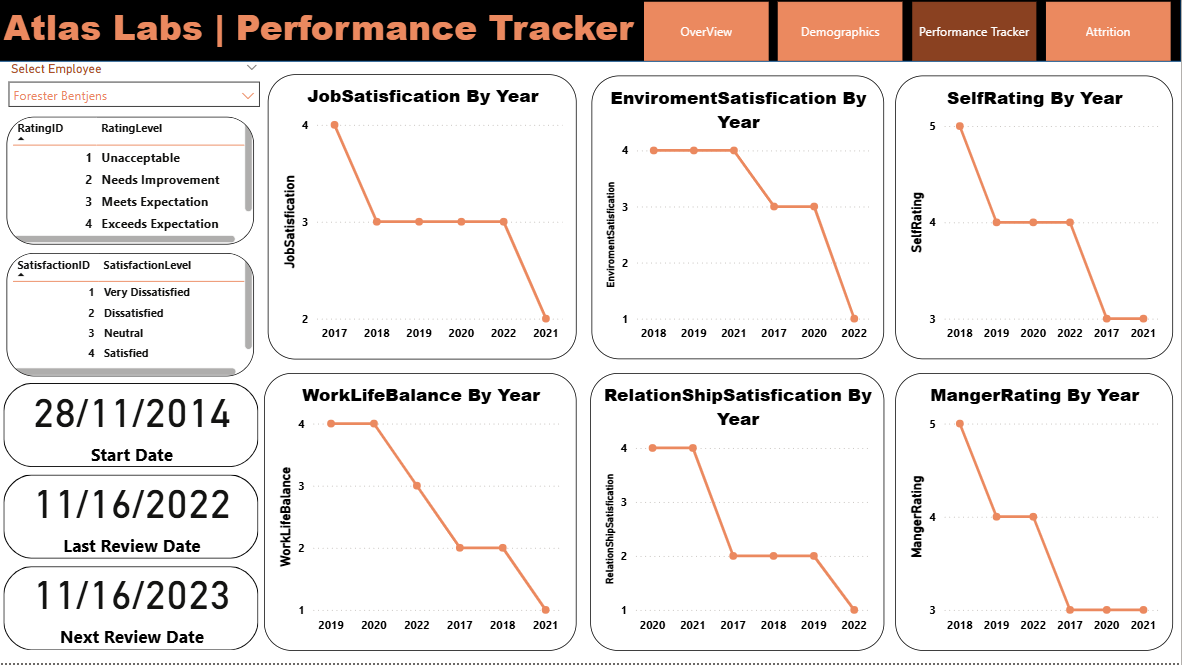

What the dashboard file says about the page in this screenshot:
{"tool":"powerbi","page":{"name":"Performance Tracker","canvas":[1280,720],"ordinal":2},"visuals":[{"type":"shape","box":[0,0,1280.3,69],"z":0},{"type":"textbox","box":[0,0,698.3,66.3],"z":1000},{"type":"slicer","fields":{"Values":["DimEmployee.FullName"]},"box":[0,69,292.3,48.7],"z":2000},{"type":"cardVisual","fields":{"Data":["Min(DimEmployee.HireDate)","_measures.LastReviewDate","_measures.NextReviewDate"]},"box":[0,416.8,286.9,289.6],"z":3000},{"type":"lineChart","title":"JobSatisfication By Year","fields":{"Category":["DimDate.Year"],"Y":["_measures.JobSatisfication"]},"box":[291,82.6,334.3,308.6],"z":4000},{"type":"lineChart","title":"WorkLifeBalance By Year","fields":{"Category":["DimDate.Year"],"Y":["_measures.WorkLifeBalance"]},"box":[286.9,406,338.3,300.4],"z":5000},{"type":"lineChart","title":"RelationShipSatisfication By Year","fields":{"Category":["DimDate.Year"],"Y":["_measures.RelationShipSatisfication"]},"box":[640.1,406,318,300.4],"z":6000},{"type":"lineChart","title":"EnviromentSatisfication By Year","fields":{"Category":["DimDate.Year"],"Y":["_measures.EnviromentSatisfication"]},"box":[641.5,83.9,316.7,307.2],"z":7000},{"type":"lineChart","title":"SelfRating By Year","fields":{"Category":["DimDate.Year"],"Y":["_measures.SelfRating"]},"box":[970.4,83.9,300.4,307.2],"z":8000},{"type":"lineChart","title":"MangerRating By Year","fields":{"Category":["DimDate.Year"],"Y":["_measures.MangerRating"]},"box":[970.4,406,300.4,300.4],"z":9000},{"type":"tableEx","fields":{"Values":["DimRatingLevel.RatingID","DimRatingLevel.RatingLevel"]},"box":[8.1,128.6,268,138],"z":10000},{"type":"tableEx","fields":{"Values":["DimSatisfiedLevel.SatisfactionID","DimSatisfiedLevel.SatisfactionLevel"]},"box":[8.1,276.1,268,134],"z":11000},{"type":"pageNavigator","box":[698.3,4.1,572.5,65],"z":11001}]}

Visuals, with their boxes in screenshot pixels (x1, y1, x2, y2), scaled from the page's 1280x720 canvas onto the 1182x665 screenshot:
shape: bbox(0, 0, 1181, 64)
textbox: bbox(0, 0, 645, 61)
slicer - DimEmployee.FullName: bbox(0, 64, 270, 109)
cardVisual - Min(DimEmployee.HireDate) x _measures.LastReviewDate: bbox(0, 385, 265, 652)
"JobSatisfication By Year" lineChart: bbox(269, 76, 577, 361)
"WorkLifeBalance By Year" lineChart: bbox(265, 375, 577, 652)
"RelationShipSatisfication By Year" lineChart: bbox(591, 375, 885, 652)
"EnviromentSatisfication By Year" lineChart: bbox(592, 77, 885, 361)
"SelfRating By Year" lineChart: bbox(896, 77, 1174, 361)
"MangerRating By Year" lineChart: bbox(896, 375, 1174, 652)
tableEx - DimRatingLevel.RatingID x DimRatingLevel.RatingLevel: bbox(7, 119, 255, 246)
tableEx - DimSatisfiedLevel.SatisfactionID x DimSatisfiedLevel.SatisfactionLevel: bbox(7, 255, 255, 379)
pageNavigator: bbox(645, 4, 1174, 64)
